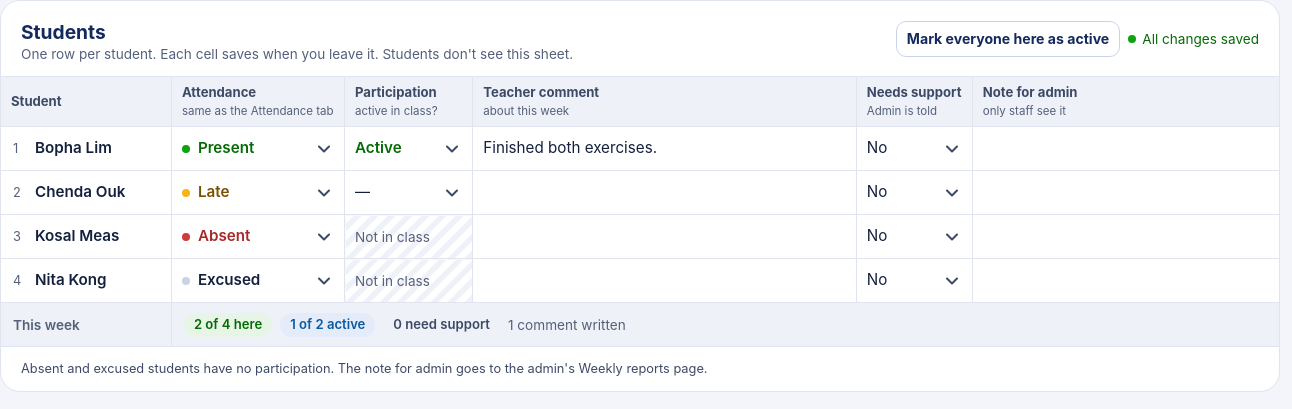
ReportSheet › marks everyone here who has no participation yet as active
Click the button "Mark everyone here as active": (1008, 39) left=896, top=21, right=1120, bottom=57
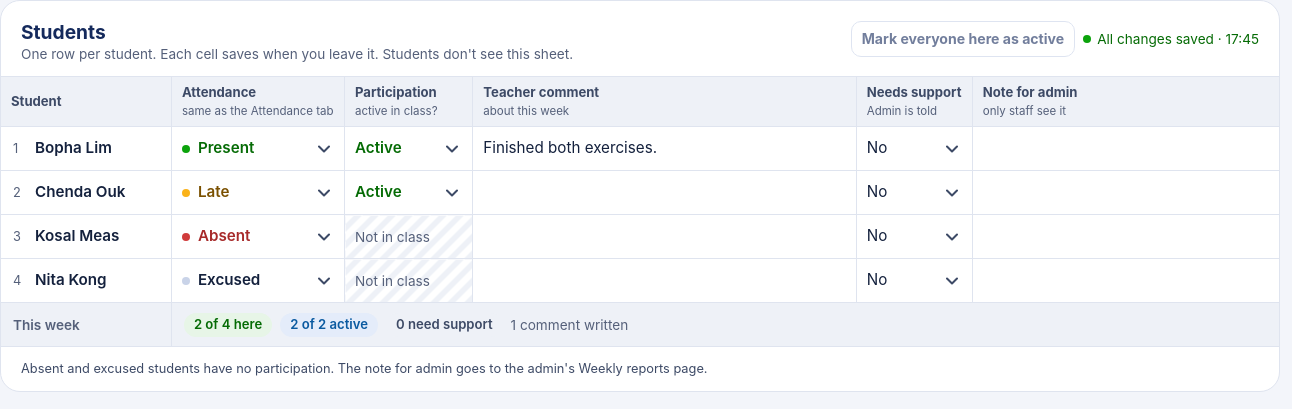
Now the dropdown named "Participation, Chenda Ouk" reads "Active", box left=345, top=171, right=472, bottom=214
